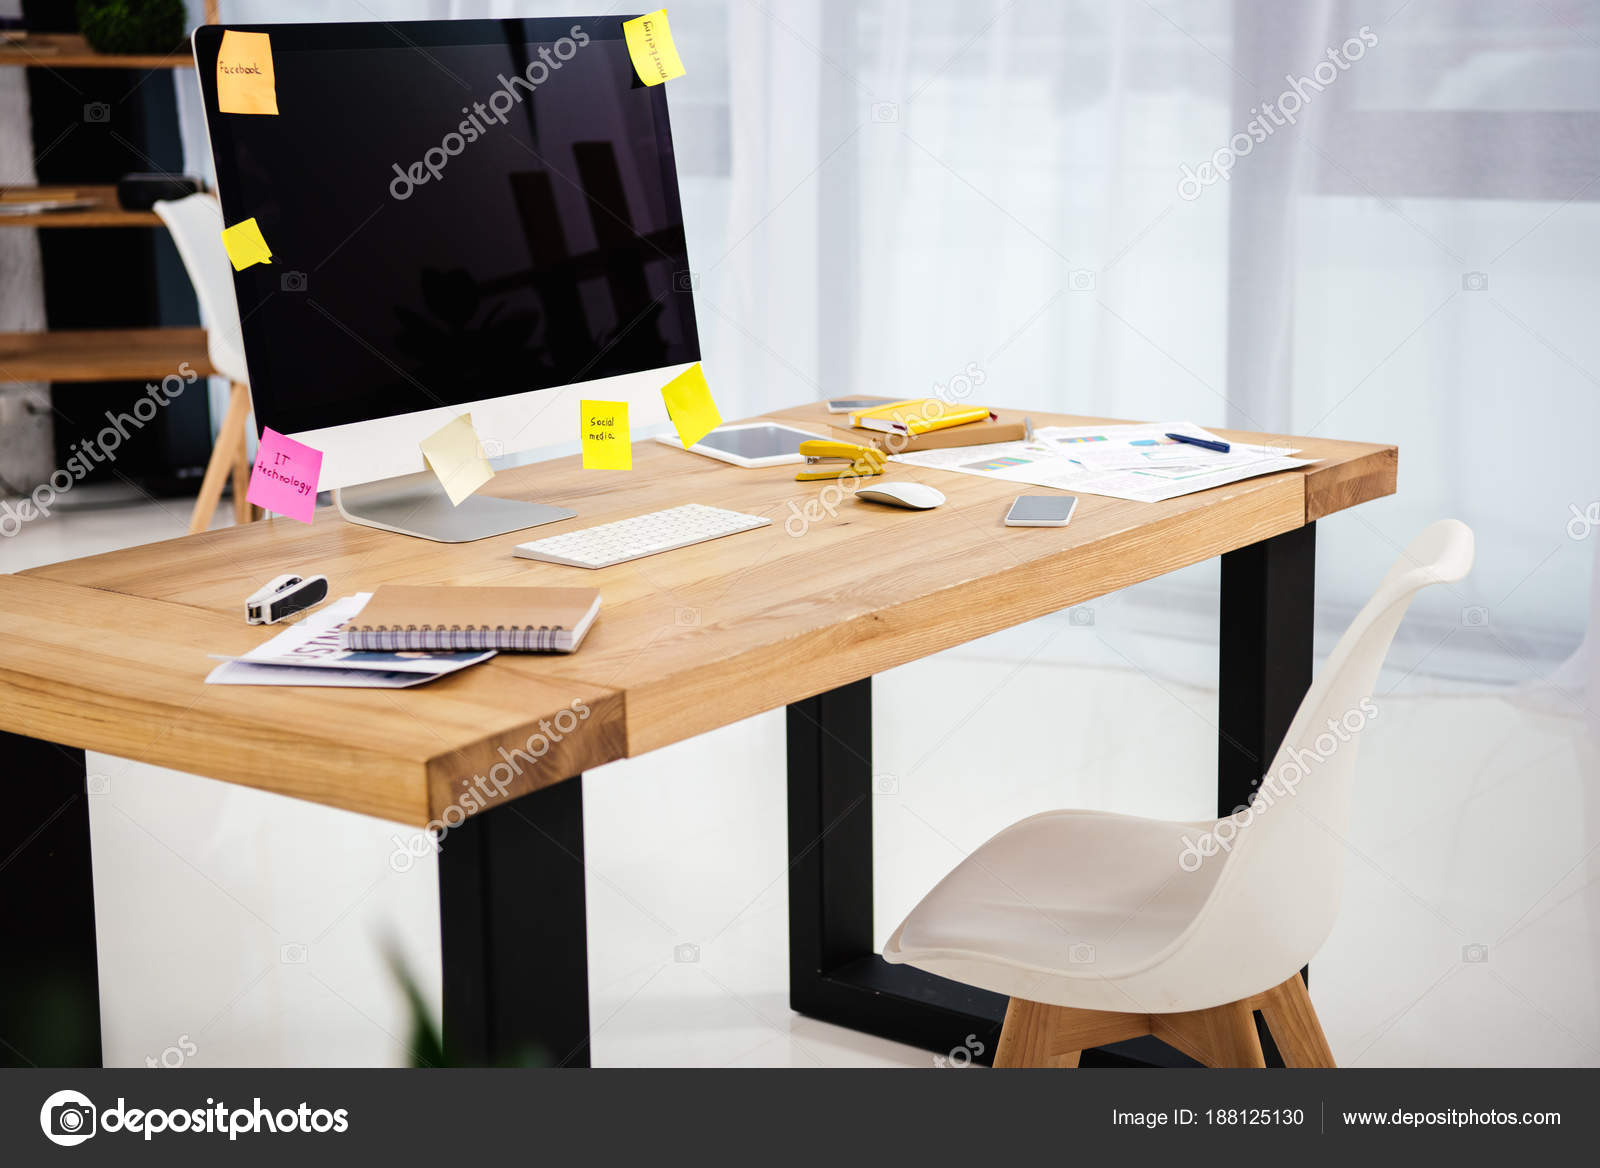Note: (235, 427, 327, 531), (415, 417, 497, 504), (209, 29, 278, 113), (619, 9, 688, 91), (660, 365, 723, 446), (578, 399, 639, 471), (224, 216, 275, 277)
